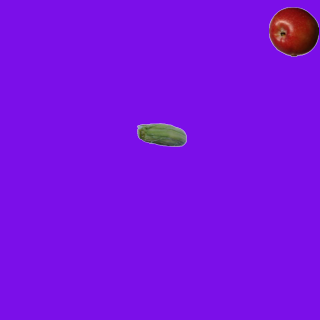Apple Braeburn: (268, 6, 318, 56)
Corn Husk: (136, 111, 186, 161)
